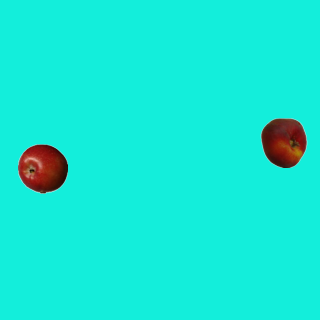Apple Braeburn: (17, 143, 67, 193)
Nectarine Flat: (258, 117, 308, 167)
